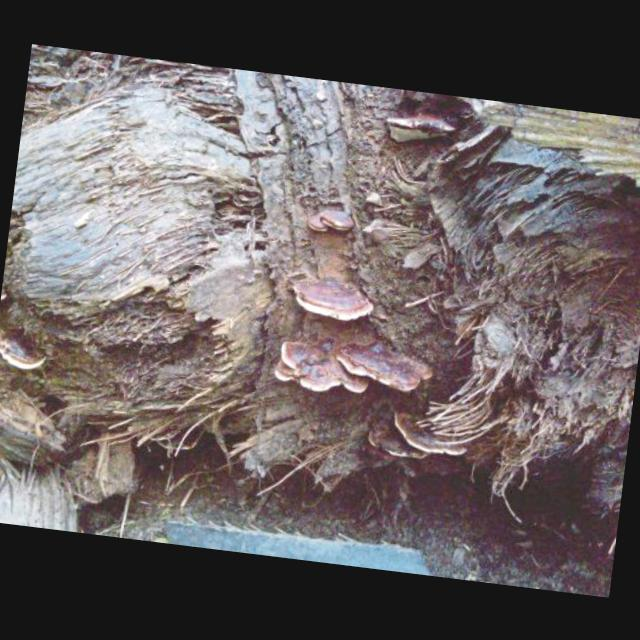ganoderma: (271, 337, 372, 399), (331, 343, 438, 395), (288, 271, 378, 325), (383, 109, 461, 138), (1, 335, 50, 372), (307, 204, 357, 237)
